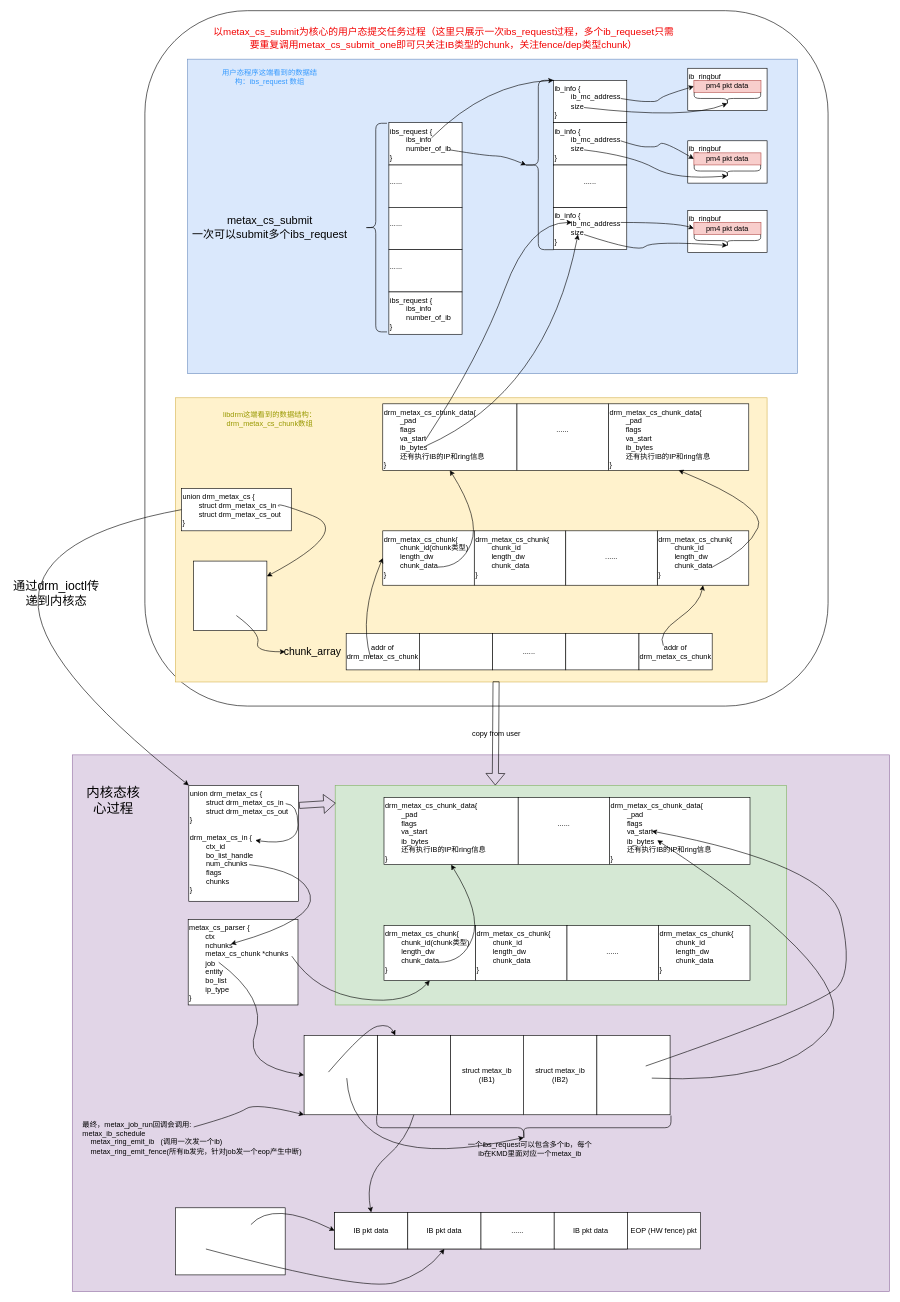
Image size: 900x1302. Some labels were removed from this diagram. Each missing label, with the centre of its shape:
drm_metax_cs_in { ctx_id bo_list_handle num_chunks flags chunks }: the point at 230,595
metax_ring { uint32_t * ring(CPU addr) gpu_addr sched wptr doorbell }: the point at 230,1241
struct metax_ib (IB0): the point at 413,1075
struct metax_ib { gpu_addr length_dw } (IB3): the point at 633,1075
struct metax_job { ibs num_ib }: the point at 340,1075
